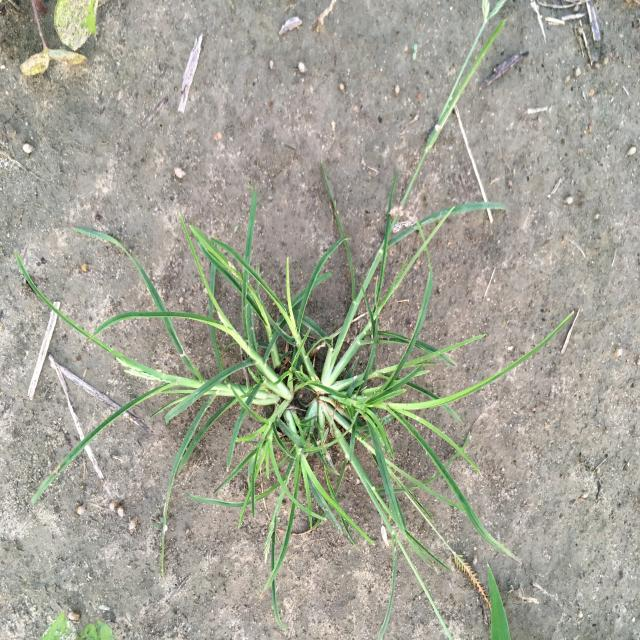Goosegrass: (12, 4, 576, 636)
